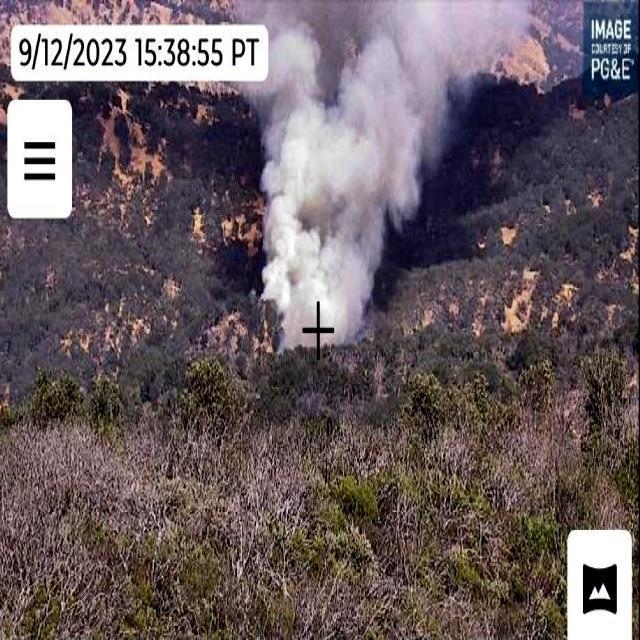Smoke: (253, 0, 487, 354)
